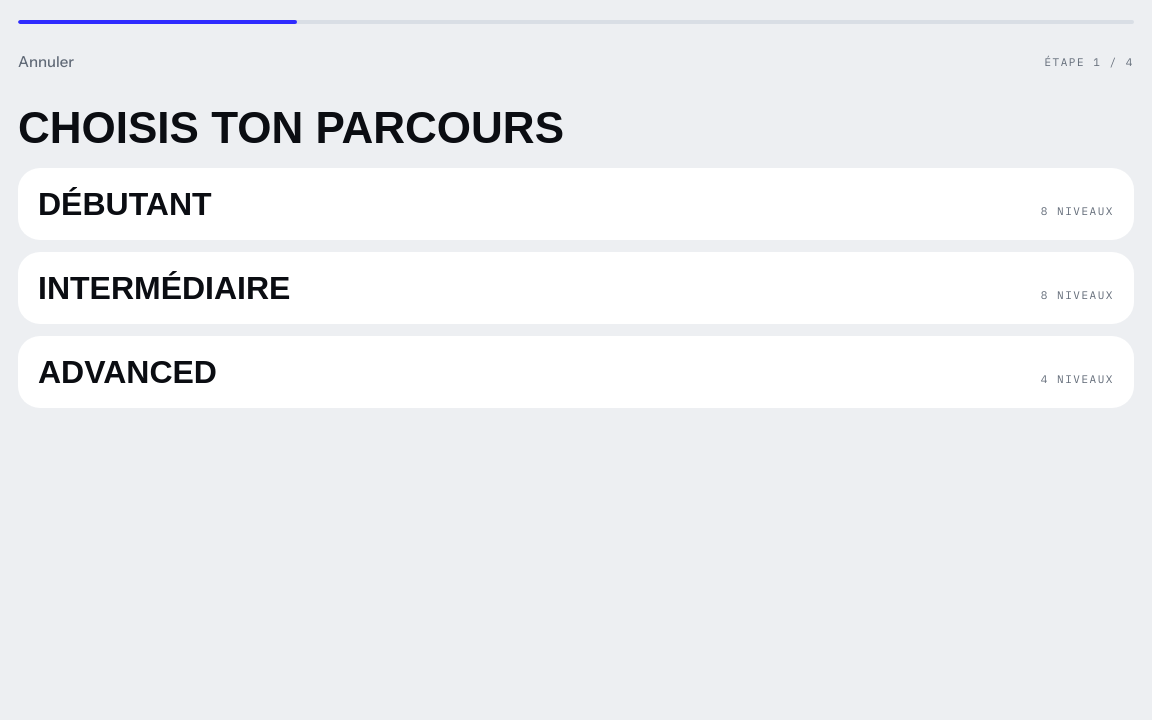
SetupFlow › Retour goes back one step without losing later choices
This screenshot has width=1152, height=720.
Click the text "Débutant" at (125, 204), box [38,188,212,220]
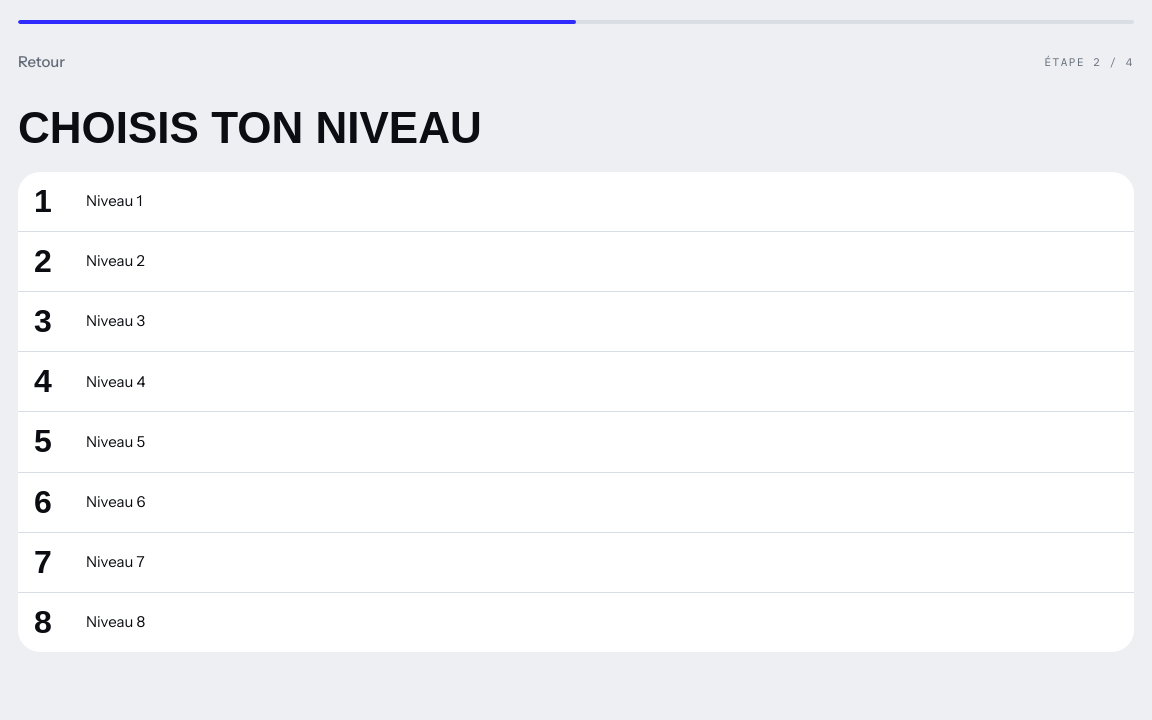
Click the button "Retour" at (42, 62), box [18,40,65,84]
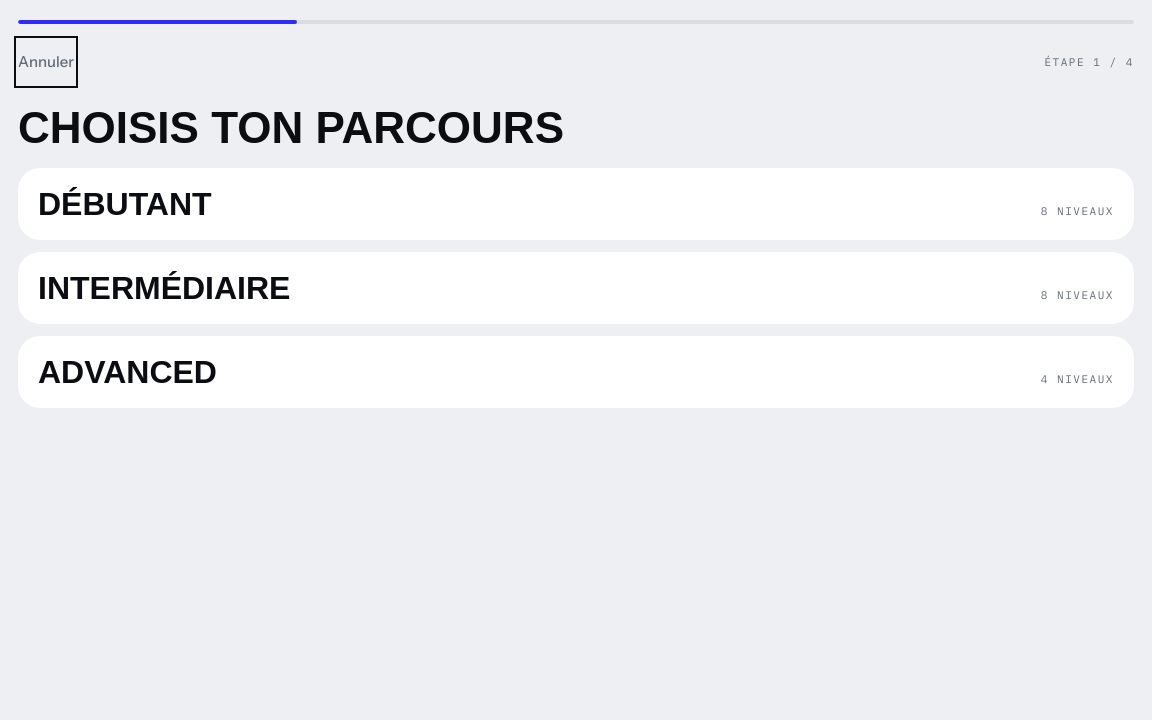
Now the heading "Choisis ton parcours" is shown, box [18,103,564,152]
